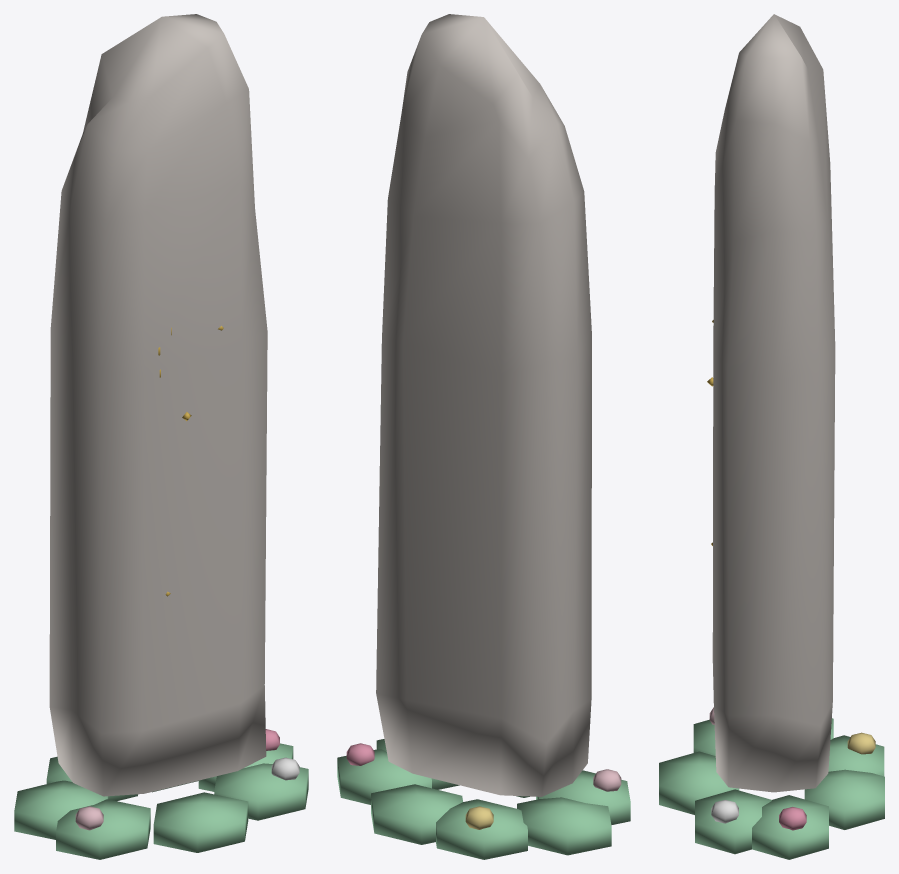
Rendered from rite_standing_stone_e.gltf.
3 renders of one model, left to right at view 1: azimuth 30°, elevation 25°; view 2: azimuth 150°, elevation 25°; view 3: azimuth 270°, elevation 25°, orthographic.
Visible parts, largest first — view 1: rite_standing_stone_e; view 2: rite_standing_stone_e; view 3: rite_standing_stone_e.
Part boxes in pixels (x1=…): rite_standing_stone_e: x1=14, y1=14, x2=308, y2=859; rite_standing_stone_e: x1=337, y1=14, x2=630, y2=859; rite_standing_stone_e: x1=659, y1=14, x2=884, y2=859.
Size of what is drawn, in the model's own units: 1.77 by 4.89 by 1.27.
